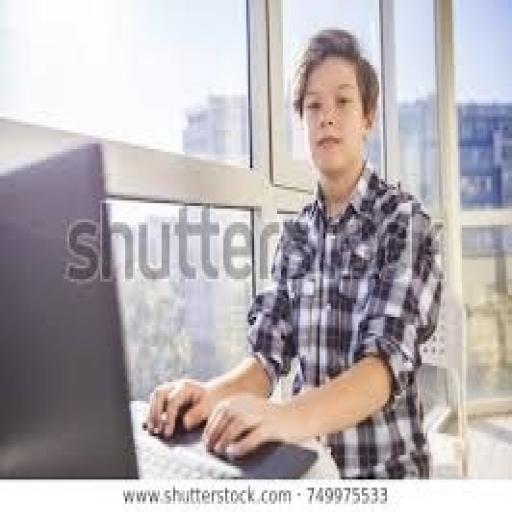using_laptop: (0, 136, 320, 480)
